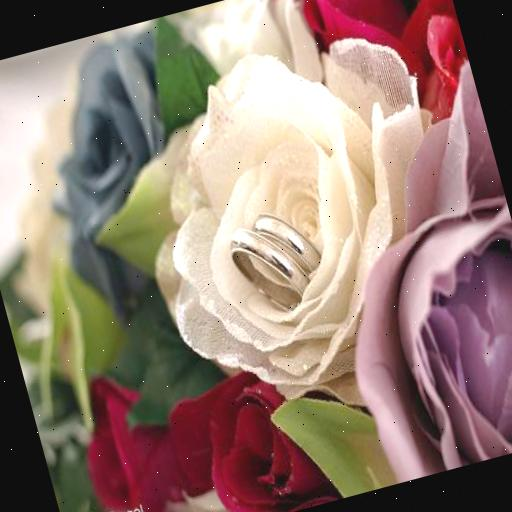rose: (109, 22, 482, 416), (187, 370, 314, 512)
